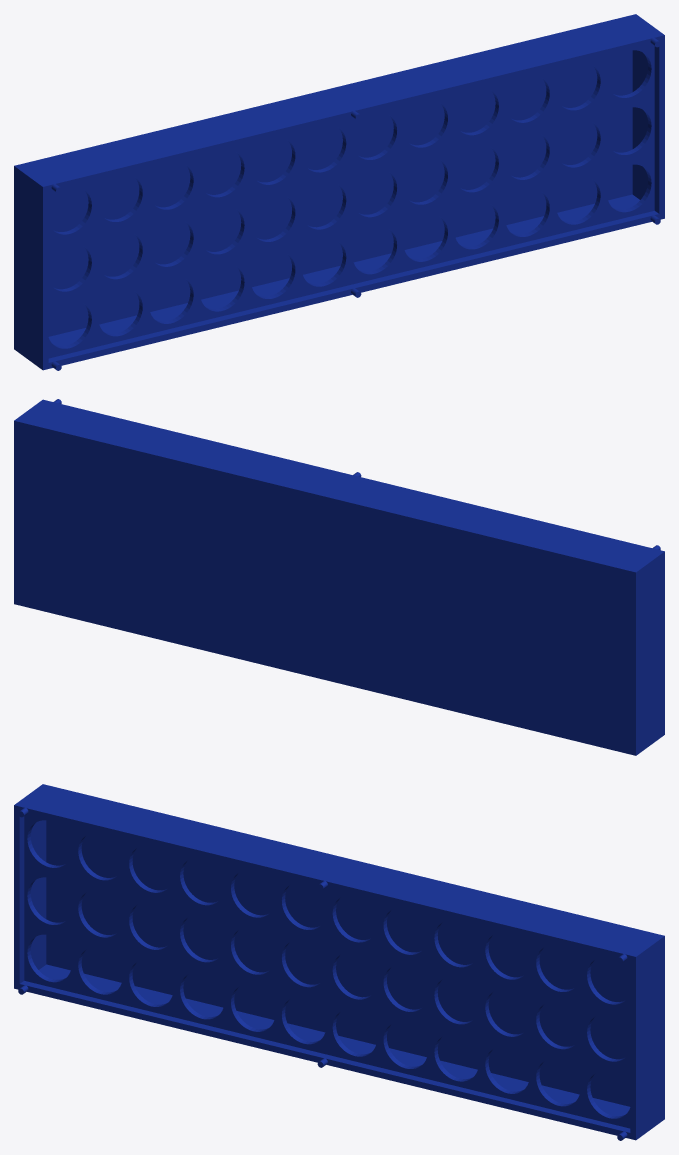
Rendered from vial_rack.glb.
The picture shows the model from 3 angles, top to bottom: view 1: azimuth 30°, elevation 25°; view 2: azimuth 150°, elevation 25°; view 3: azimuth 330°, elevation 25°; orthographic projection.
Parts seen in each view (by area): view 1: mn_702503_vial_rack_23mm__body__frame, mn_702503_vial_rack_23mm__body; view 2: mn_702503_vial_rack_23mm__body__frame; view 3: mn_702503_vial_rack_23mm__body__frame, mn_702503_vial_rack_23mm__body.
Part boxes in pixels (x1,y1,x2,y2): mn_702503_vial_rack_23mm__body__frame: [14, 14, 664, 370]; mn_702503_vial_rack_23mm__body: [48, 44, 654, 358]; mn_702503_vial_rack_23mm__body__frame: [14, 399, 664, 755]; mn_702503_vial_rack_23mm__body__frame: [14, 784, 664, 1140]; mn_702503_vial_rack_23mm__body: [24, 814, 630, 1128].
Bounding box in the file's own units: 0.323 × 0.091 × 0.03.
